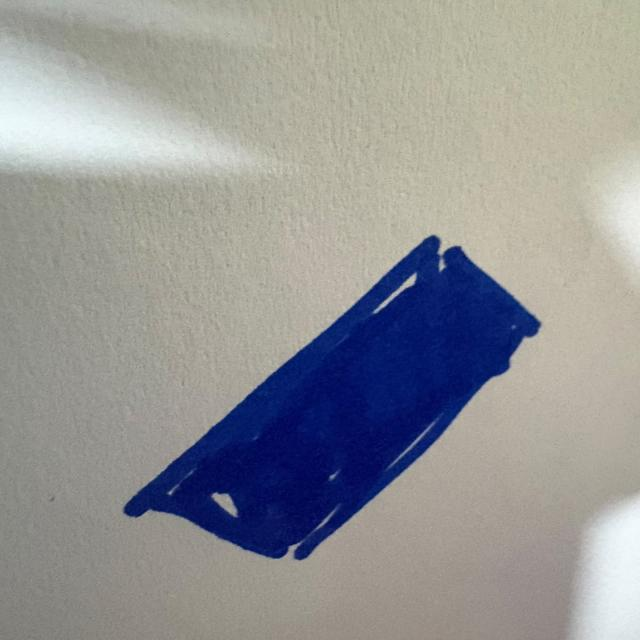Rectangle: (123, 236, 541, 560)
